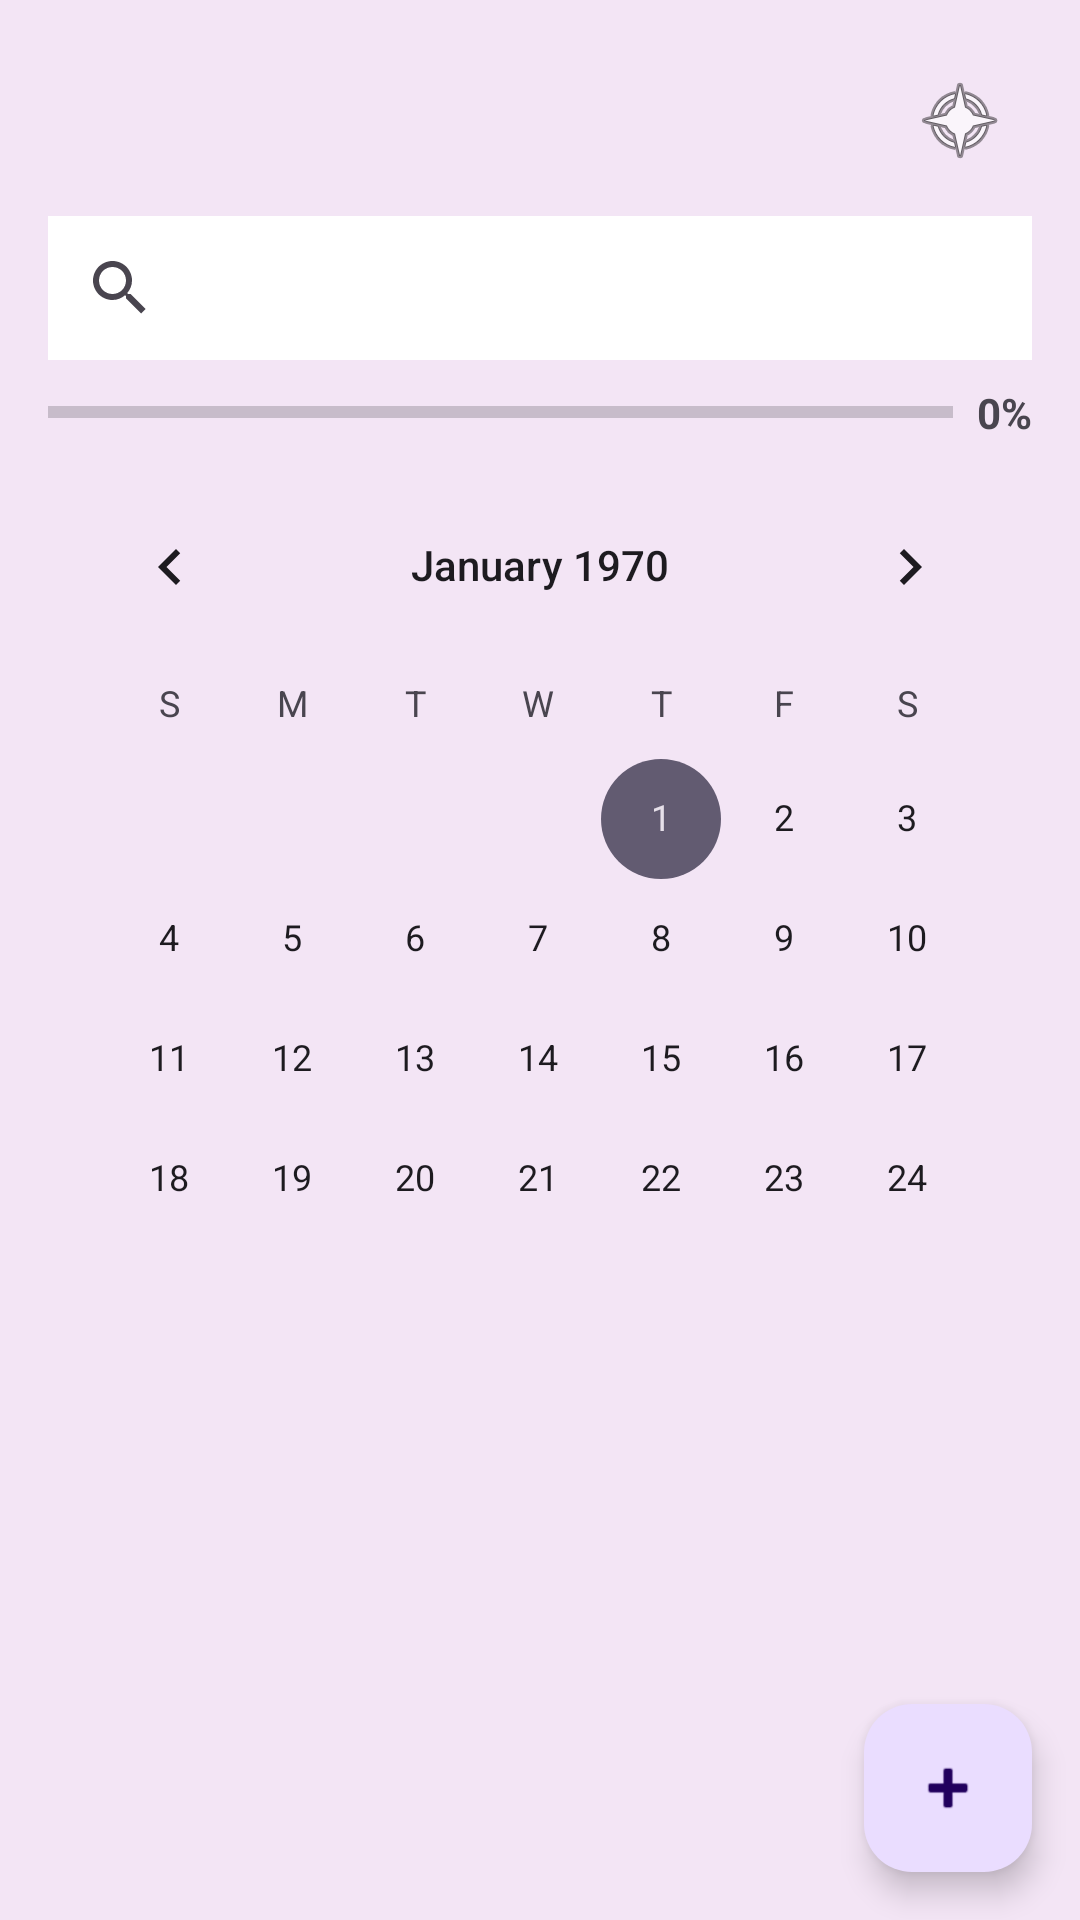

Icons on this 1080px×1920px Android screen, each with its box as bbox=[x1, y1, x2, y2]:
add: bbox=[864, 1704, 1032, 1872]
compass: bbox=[922, 83, 998, 158]
